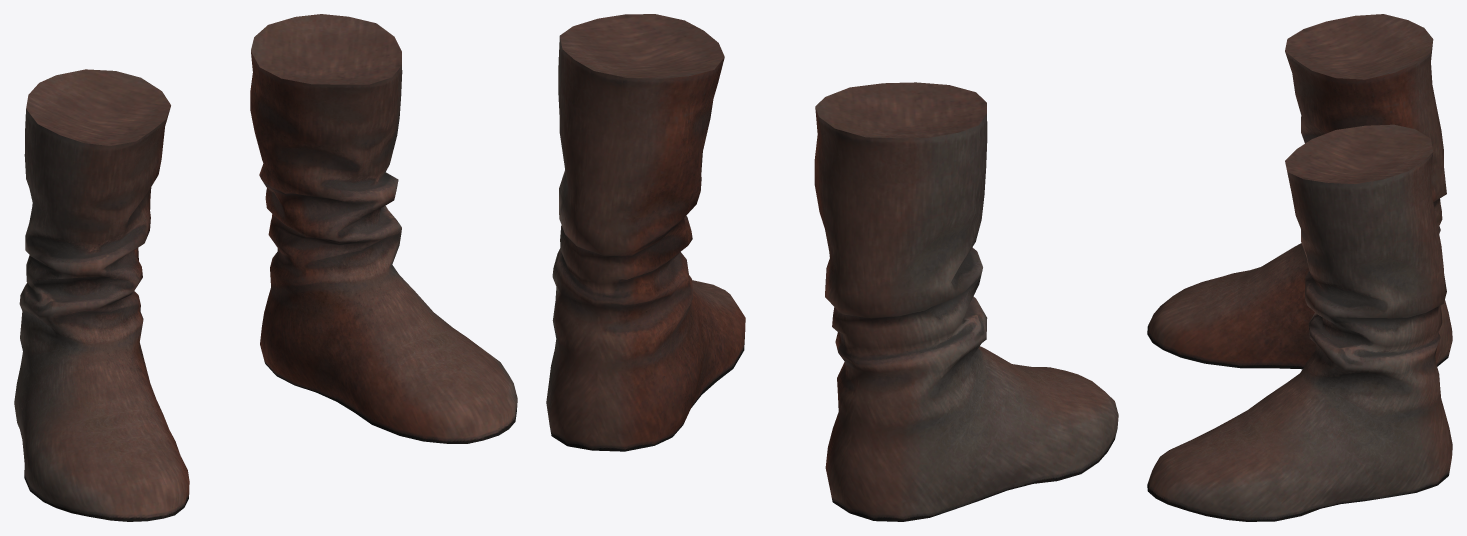
Rendered from sk_dg_uruk_boots_light_a.fbx.
3 renders of one model, left to right at view 1: azimuth 30°, elevation 25°; view 2: azimuth 150°, elevation 25°; view 3: azimuth 270°, elevation 25°, orthographic. The views are drawn at different scales.
Parts seen in each view (by area): view 1: sk_dg_uruk_boots_light_a; view 2: sk_dg_uruk_boots_light_a; view 3: sk_dg_uruk_boots_light_a.
Part boxes in pixels (x1=…): sk_dg_uruk_boots_light_a: x1=14, y1=14, x2=517, y2=521; sk_dg_uruk_boots_light_a: x1=546, y1=14, x2=1118, y2=521; sk_dg_uruk_boots_light_a: x1=1147, y1=14, x2=1452, y2=521.
Size of the model in its own units: 0.5637 by 0.3359 by 0.389.
1 material, 1 textured.
